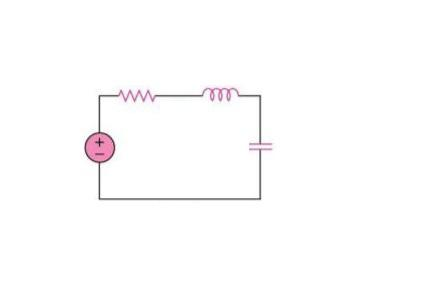resistor: (104, 80, 169, 112)
